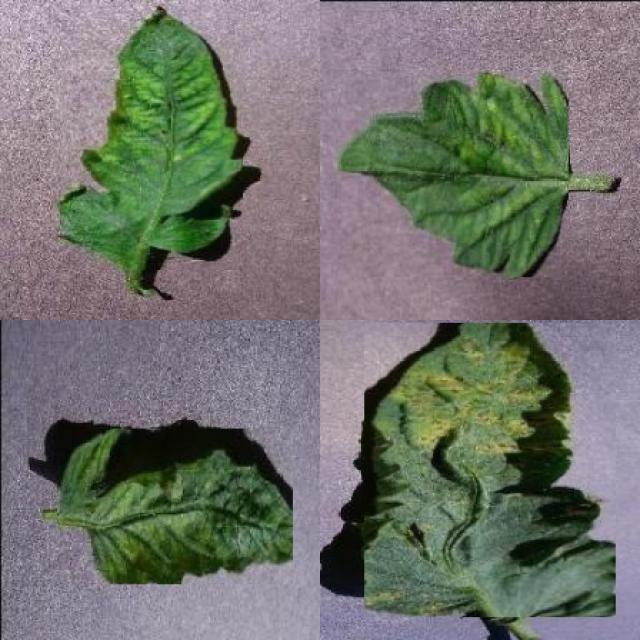Mosaic Virus: (54, 4, 243, 270), (337, 72, 569, 278), (57, 429, 293, 584)
Septoria: (364, 323, 616, 617)
